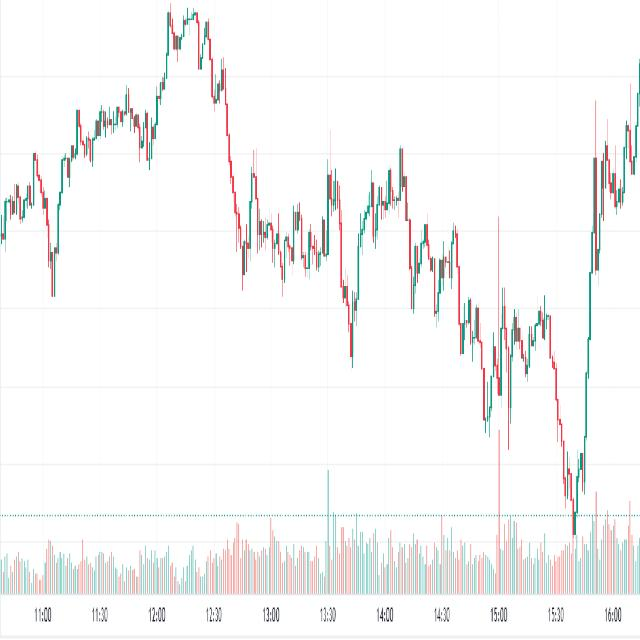Ascending-Triangle: (479, 294, 568, 477)
Descending-Triangle: (221, 66, 347, 285)
Falling-Wedge: (342, 62, 489, 386)
Inverse-Head-Shoulders: (548, 314, 593, 550), (338, 210, 366, 380)
